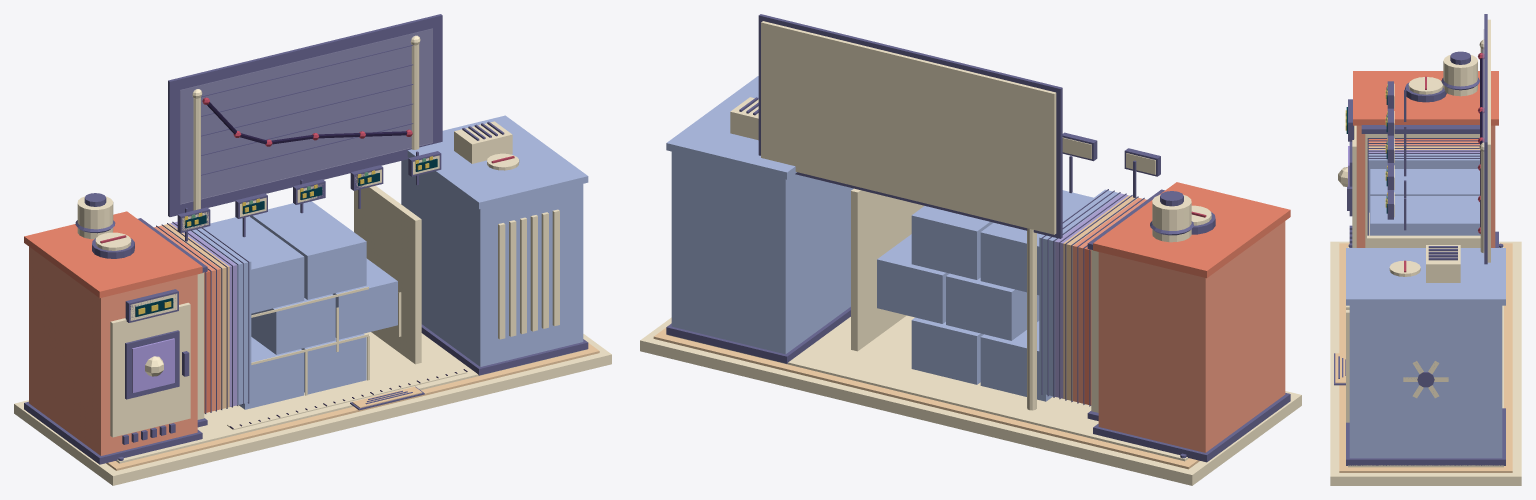
The model's file is diffusion.glb.
3 views of the same model, side by side, from view 1: azimuth 30°, elevation 25°; view 2: azimuth 150°, elevation 25°; view 3: azimuth 270°, elevation 25° (orthographic). The views are drawn at different scales.
Parts seen in each view (by area): view 1: diffusion_bleu, diffusion_steel, diffusion_cream, diffusion_glass, diffusion_salmon, diffusion_coral, diffusion_peach, diffusion_lilac, diffusion_sand, diffusion_teal, diffusion_dark; view 2: diffusion_cream, diffusion_bleu, diffusion_salmon, diffusion_steel, diffusion_coral, diffusion_peach, diffusion_sand; view 3: diffusion_bleu, diffusion_cream, diffusion_steel, diffusion_coral, diffusion_peach, diffusion_salmon, anim_spin_x_ventilo, diffusion_dark, diffusion_sand, diffusion_glass.
Part boxes in pixels (<box>): diffusion_bleu: <box>190,115,588,409</box>; diffusion_steel: <box>24,14,588,464</box>; diffusion_cream: <box>14,35,611,485</box>; diffusion_glass: <box>180,28,432,204</box>; diffusion_salmon: <box>29,225,220,455</box>; diffusion_coral: <box>24,211,210,413</box>; diffusion_peach: <box>106,223,599,470</box>; diffusion_lilac: <box>132,338,174,392</box>; diffusion_sand: <box>170,221,236,406</box>; diffusion_teal: <box>135,158,437,316</box>; diffusion_dark: <box>207,102,467,428</box>; diffusion_cream: <box>640,21,1301,485</box>; diffusion_bleu: <box>666,76,1120,401</box>; diffusion_salmon: <box>1073,198,1285,452</box>; diffusion_steel: <box>666,14,1290,462</box>; diffusion_coral: <box>1083,182,1290,405</box>; diffusion_peach: <box>653,195,1199,469</box>; diffusion_sand: <box>1055,193,1128,398</box>; diffusion_bleu: <box>1346,154,1505,458</box>; diffusion_cream: <box>1330,19,1521,485</box>; diffusion_steel: <box>1334,14,1505,465</box>; diffusion_coral: <box>1353,71,1498,141</box>; diffusion_peach: <box>1335,146,1512,472</box>; diffusion_salmon: <box>1356,125,1495,247</box>; anim_spin_x_ventilo: <box>1403,361,1448,398</box>; diffusion_dark: <box>1480,58,1483,226</box>; diffusion_sand: <box>1368,150,1479,152</box>; diffusion_glass: <box>1483,29,1484,257</box>.
Size of the model in its own units: 3.21 by 1.91 by 1.1.
